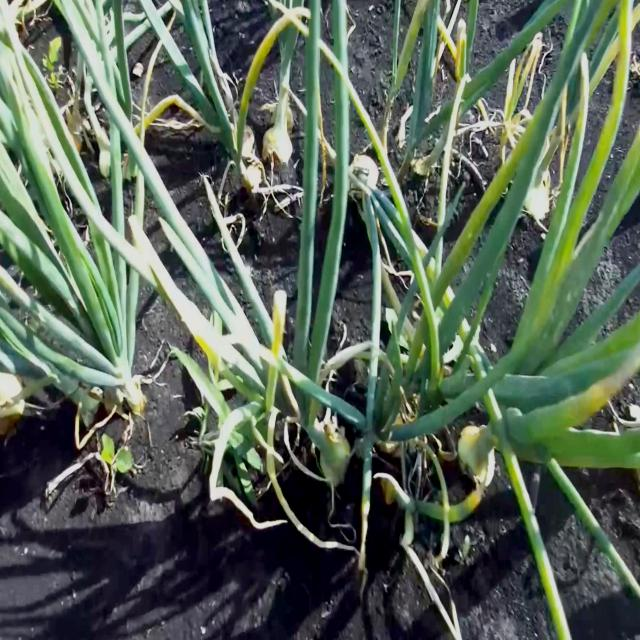onion: (456, 420, 500, 490), (316, 425, 352, 494), (0, 366, 25, 438), (263, 116, 297, 166), (522, 170, 554, 223), (348, 158, 378, 207), (242, 160, 264, 196)
